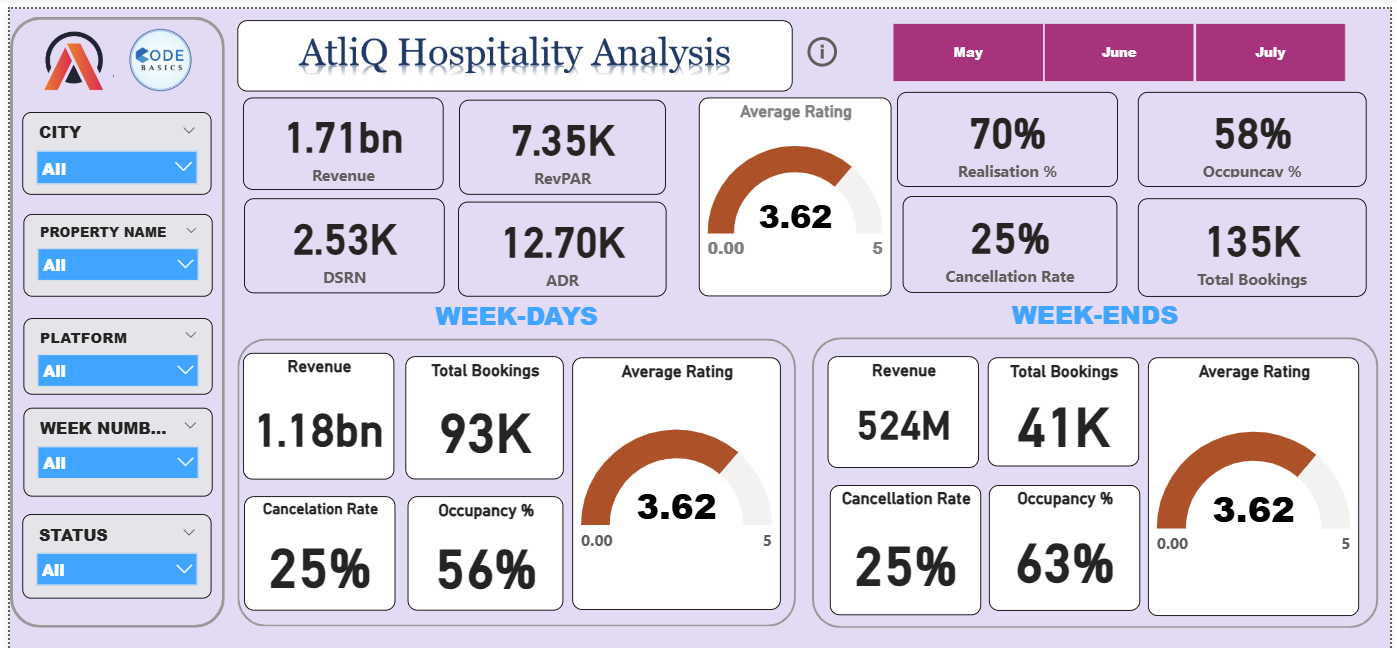

The dashboard page shown, as its layout file describes it:
{"tool":"powerbi","page":{"name":"Executive Summary","canvas":[1400,1350],"ordinal":1},"visuals":[{"type":"textbox","box":[248.9,12.5,548.9,71.6],"z":0},{"type":"slicer","fields":{"Values":["DATE.MONTH NAME"]},"box":[904.5,0,492,80.7],"z":1000},{"type":"shape","box":[0,8,218.2,561.4],"z":2000},{"type":"image","title":"atliq","box":[12.5,11.4,88.6,77.3],"z":3000},{"type":"image","title":"codebasics","box":[101.1,17,103.4,77.3],"z":4000},{"type":"slicer","fields":{"Values":["BOOKINGS.BOOKING STATUS"]},"box":[12.5,462.5,192,86.4],"z":5000},{"type":"slicer","fields":{"Values":["DATE.WEEK NO"]},"box":[12.5,363.6,192,89.8],"z":6000},{"type":"slicer","fields":{"Values":["BOOKINGS.BOOKING PLATFORM"]},"box":[12.5,273.9,192,78.4],"z":7000},{"type":"slicer","fields":{"Values":["HOTELS.PROPERTY NAME"]},"box":[12.5,180.7,192,84.1],"z":8000},{"type":"slicer","fields":{"Values":["HOTELS.CITY"]},"box":[12.5,88.6,192,84.1],"z":9000},{"type":"shape","title":"WEEK-DAYS","box":[230.4,305.8,569.6,297.1],"z":10000},{"type":"shape","title":"WEEK-ENDS","box":[813,305.8,572.5,294.2],"z":11000},{"type":"card","title":"Revenue","fields":{"Values":["KEY MEASURES.Revenue"]},"box":[249.3,353.6,153.6,110.1],"z":12000},{"type":"card","title":"Total Bookings","fields":{"Values":["KEY MEASURES.Total successful Bookings"]},"box":[413,352.2,155.1,110.1],"z":13000},{"type":"card","title":"Cancelation Rate","fields":{"Values":["KEY MEASURES.Cancellation Rate"]},"box":[249.3,482.6,153.6,110.1],"z":14000},{"type":"card","title":"Occupancy %","fields":{"Values":["KEY MEASURES.Occpuncay %"]},"box":[411.6,482.6,155.1,110.1],"z":15000},{"type":"gauge","title":"Average Rating","fields":{"MaxValue":["KEY MEASURES.MAXIMUM RATING"],"Y":["KEY MEASURES.Average Rating"]},"box":[576.8,352.2,210.1,236.2],"z":16000},{"type":"gauge","title":"Average Rating ","fields":{"Y":["KEY MEASURES.Average Rating"],"MaxValue":["KEY MEASURES.MAXIMUM RATING"]},"box":[1163.8,352.2,211.6,226.1],"z":17000},{"type":"card","title":"Occupancy %","fields":{"Values":["KEY MEASURES.Occpuncay %"]},"box":[989.9,471,153.6,110.1],"z":18000},{"type":"card","title":"Cancellation Rate","fields":{"Values":["KEY MEASURES.Cancellation Rate"]},"box":[826.1,471,155.1,110.1],"z":19000},{"type":"card","title":"Total Bookings","fields":{"Values":["KEY MEASURES.Total Bookings"]},"box":[989.9,352.2,153.6,110.1],"z":20000},{"type":"card","title":"Revenue","fields":{"Values":["KEY MEASURES.Revenue"]},"box":[826.1,353.6,155.1,110.1],"z":21000},{"type":"shape","box":[0,607.2,1397.1,684.1],"z":22000},{"type":"textbox","box":[30,593,452,82],"z":23000},{"type":"textbox","box":[74,719,312,59],"z":24000},{"type":"textbox","box":[489,607,867,51],"z":25000},{"type":"textbox","box":[412.1,955.2,903.4,56.9],"z":26000},{"type":"clusteredBarChart","title":"Occupancy %","fields":{"Category":["HOTELS.PROPERTY NAME"],"Y":["KEY MEASURES.REVENUE %"]},"box":[20,771,392,498],"z":27000},{"type":"clusteredBarChart","title":"Occupancy %","fields":{"Category":["HOTELS.CITY"],"Y":["KEY MEASURES.Revenue"]},"box":[489.7,650,419,239.7],"z":28000},{"type":"stackedAreaChart","title":"Occupancy %","fields":{"Y":["KEY MEASURES.Revenue"],"Category":["BOOKINGS. PLATFORM"]},"box":[451,984,441,293],"z":29000},{"type":"pieChart","title":"Occupancy %","fields":{"Category":["HOTELS.CATEGORY"],"Y":["KEY MEASURES.Revenue"]},"box":[905,984,450,285],"z":30000},{"type":"columnChart","fields":{"Y":["KEY MEASURES.Revenue"],"Category":["ROOMS.ROOM CLASS"]},"box":[920.7,650,434.5,239.7],"z":31000},{"type":"actionButton","box":[828,17,61,57],"z":32000},{"type":"card","fields":{"Values":["KEY MEASURES.Revenue"]},"box":[236,90,204,94],"z":33000},{"type":"card","fields":{"Values":["KEY MEASURES.Total Bookings"]},"box":[1144,192,232,100],"z":34000},{"type":"gauge","title":"Average Rating ","fields":{"Y":["KEY MEASURES.Average Rating"],"MaxValue":["KEY MEASURES.MAXIMUM RATING"]},"box":[682.6,89.9,211.6,201.4],"z":35000},{"type":"card","fields":{"Values":["KEY MEASURES.Cancellation %"]},"box":[911.6,195.7,218.8,98.6],"z":36000},{"type":"card","fields":{"Values":["KEY MEASURES.Occpuncay %"]},"box":[1144,84,232,96],"z":37000},{"type":"card","fields":{"Values":["KEY MEASURES.RevPAR"]},"box":[456,92,210,96],"z":38000},{"type":"card","fields":{"Values":["KEY MEASURES.Realisation %"]},"box":[905.8,89.9,224.6,95.7],"z":39000},{"type":"card","fields":{"Values":["KEY MEASURES.DSRN"]},"box":[238,192,204,96],"z":40000},{"type":"card","fields":{"Values":["KEY MEASURES.ADR"]},"box":[454,196,212,96],"z":41000}]}

Visuals, with their boxes on the page's 1400x1350 design canvas (x1, y1, x2, y2). These are canvas units, not pixel positions in the 1397x648 screenshot, which may show the page scaled, cropped or inside an application window:
textbox: [249,12,798,84]
slicer - DATE.MONTH NAME: [904,0,1396,81]
shape: [0,8,218,569]
"atliq" image: [12,11,101,89]
"codebasics" image: [101,17,204,94]
slicer - BOOKINGS.BOOKING STATUS: [12,462,204,549]
slicer - DATE.WEEK NO: [12,364,204,453]
slicer - BOOKINGS.BOOKING PLATFORM: [12,274,204,352]
slicer - HOTELS.PROPERTY NAME: [12,181,204,265]
slicer - HOTELS.CITY: [12,89,204,173]
"WEEK-DAYS" shape: [230,306,800,603]
"WEEK-ENDS" shape: [813,306,1386,600]
"Revenue" card: [249,354,403,464]
"Total Bookings" card: [413,352,568,462]
"Cancelation Rate" card: [249,483,403,593]
"Occupancy %" card: [412,483,567,593]
"Average Rating" gauge: [577,352,787,588]
"Average Rating " gauge: [1164,352,1375,578]
"Occupancy %" card: [990,471,1144,581]
"Cancellation Rate" card: [826,471,981,581]
"Total Bookings" card: [990,352,1144,462]
"Revenue" card: [826,354,981,464]
shape: [0,607,1397,1291]
textbox: [30,593,482,675]
textbox: [74,719,386,778]
textbox: [489,607,1356,658]
textbox: [412,955,1316,1012]
"Occupancy %" clusteredBarChart: [20,771,412,1269]
"Occupancy %" clusteredBarChart: [490,650,909,890]
"Occupancy %" stackedAreaChart: [451,984,892,1277]
"Occupancy %" pieChart: [905,984,1355,1269]
columnChart - KEY MEASURES.Revenue x ROOMS.ROOM CLASS: [921,650,1355,890]
actionButton: [828,17,889,74]
card - KEY MEASURES.Revenue: [236,90,440,184]
card - KEY MEASURES.Total Bookings: [1144,192,1376,292]
"Average Rating " gauge: [683,90,894,291]
card - KEY MEASURES.Cancellation %: [912,196,1130,294]
card - KEY MEASURES.Occpuncay %: [1144,84,1376,180]
card - KEY MEASURES.RevPAR: [456,92,666,188]
card - KEY MEASURES.Realisation %: [906,90,1130,186]
card - KEY MEASURES.DSRN: [238,192,442,288]
card - KEY MEASURES.ADR: [454,196,666,292]
